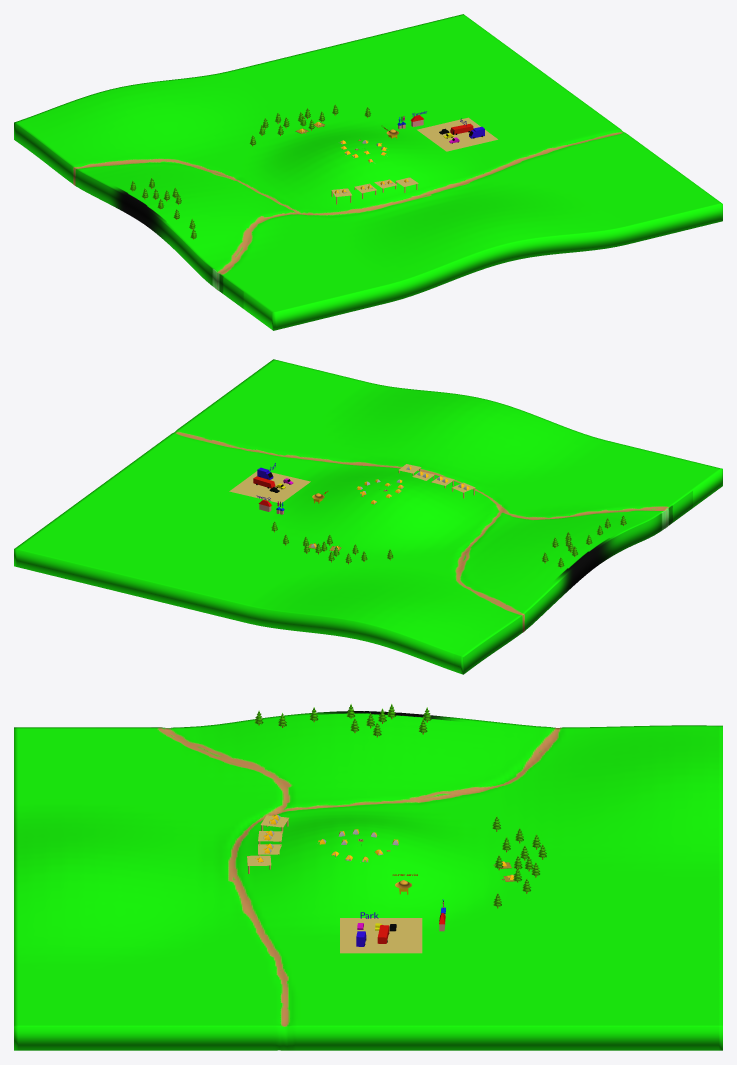
File: thongnuem.glb
3 renders of one model, top to bottom at view 1: azimuth 30°, elevation 25°; view 2: azimuth 150°, elevation 25°; view 3: azimuth 270°, elevation 25°, orthographic. The views are drawn at different scales.
Visible parts, largest first — view 1: Plane, Plane.001; view 2: Plane, Plane.001; view 3: Plane, Plane.001.
Boxes of the visible parts, left/top/right/bottom form: Plane: left=14, top=14, right=722, bottom=330; Plane.001: left=417, top=117, right=497, bottom=151; Plane: left=14, top=359, right=722, bottom=674; Plane.001: left=229, top=471, right=310, bottom=503; Plane: left=14, top=711, right=722, bottom=1050; Plane.001: left=340, top=918, right=422, bottom=953.
Size of the model in its own units: 389 by 34.77 by 389.
Materials: 41 (1 with a texture image).
